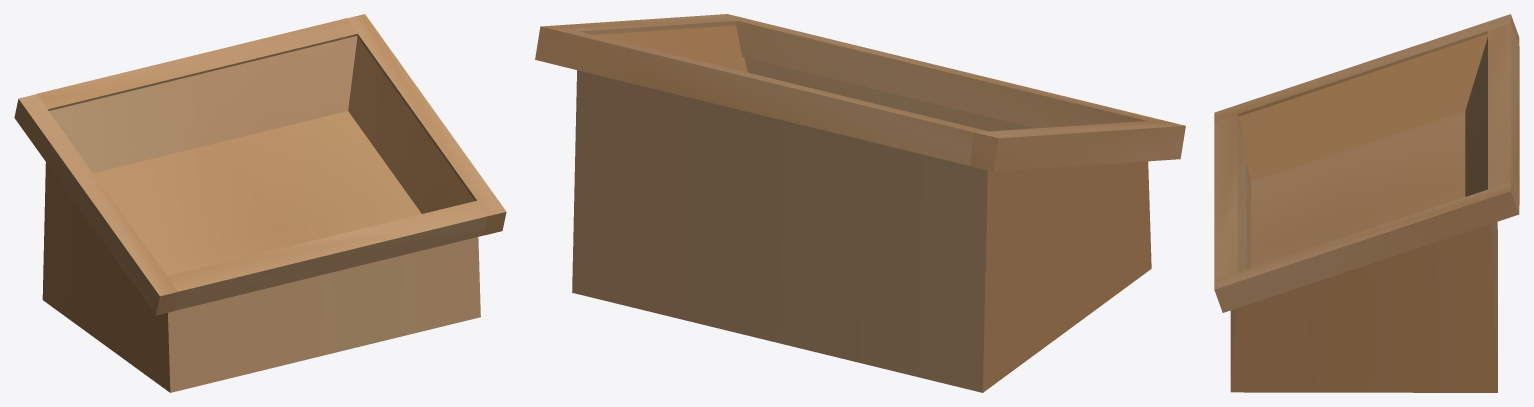
Rendered from SM_Vegetables_Stand.fbx.
3 views of the same model, side by side, from view 1: azimuth 30°, elevation 25°; view 2: azimuth 150°, elevation 25°; view 3: azimuth 270°, elevation 25° (orthographic). The views are drawn at different scales.
Visible parts, largest first — view 1: SM_Fruit_Vegetables_Stand_2; view 2: SM_Fruit_Vegetables_Stand_2; view 3: SM_Fruit_Vegetables_Stand_2.
Part boxes in pixels (x1,y1,x2,y2): SM_Fruit_Vegetables_Stand_2: (14,14,506,392); SM_Fruit_Vegetables_Stand_2: (535,14,1185,392); SM_Fruit_Vegetables_Stand_2: (1214,14,1519,392).
Bounding box in the file's own units: 334 × 186 × 243.
